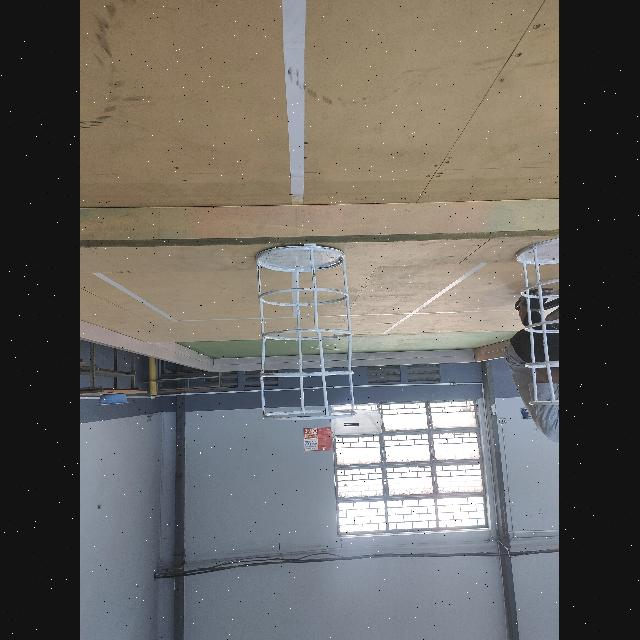S: (255, 245, 357, 420), (515, 239, 560, 406)
